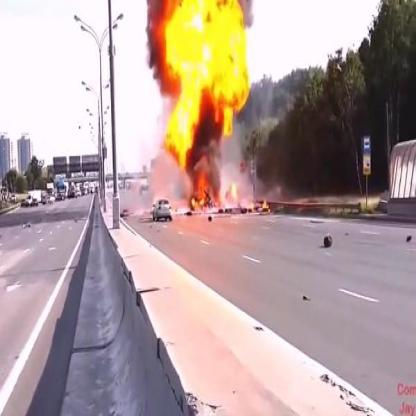fire: (160, 1, 253, 167), (189, 174, 242, 216), (248, 200, 272, 214)
